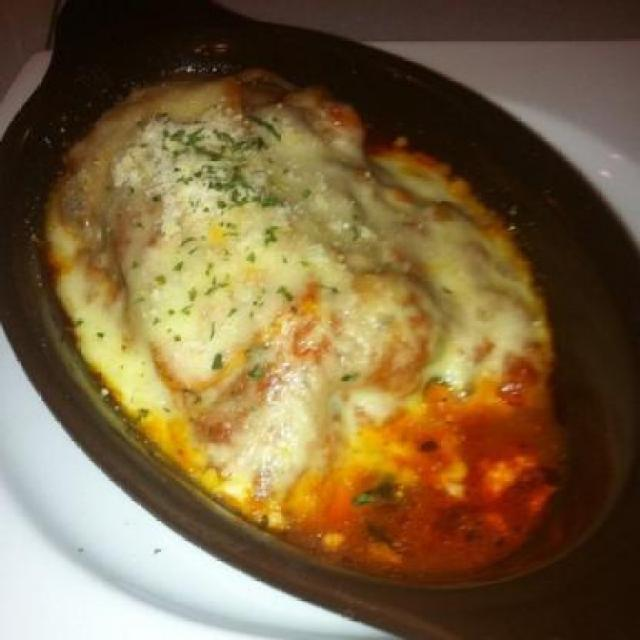Lasagna: (50, 58, 593, 591)
